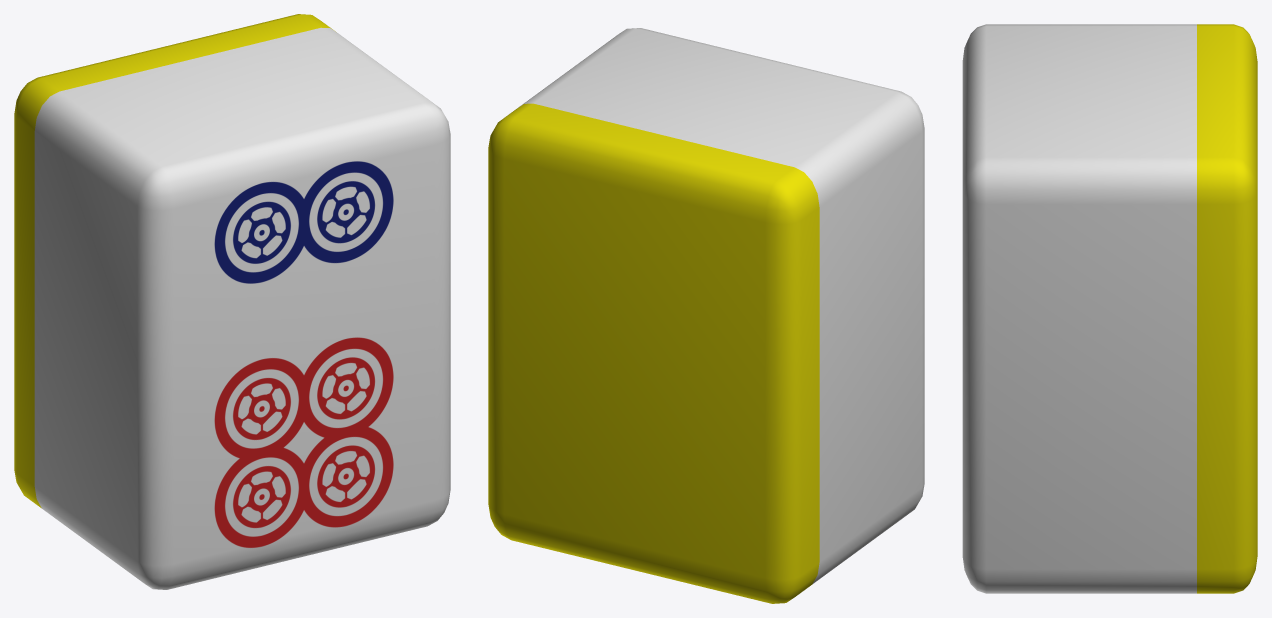
File: pinzu6.glb
3 views of the same model, side by side, from view 1: azimuth 30°, elevation 25°; view 2: azimuth 150°, elevation 25°; view 3: azimuth 270°, elevation 25° (orthographic). The views are drawn at different scales.
Parts seen in each view (by area): view 1: Cube, Cube.001; view 2: Cube; view 3: Cube.
Part boxes in pixels (left/top/right/bottom): Cube: left=14, top=14, right=450, bottom=589; Cube.001: left=214, top=161, right=393, bottom=547; Cube: left=488, top=28, right=924, bottom=603; Cube: left=962, top=24, right=1257, bottom=593.
Size of the model in its own units: 2 by 2.6 by 1.6.
Materials: 3 (1 with a texture image).
